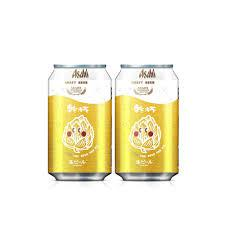beer: (47, 61, 182, 185)
